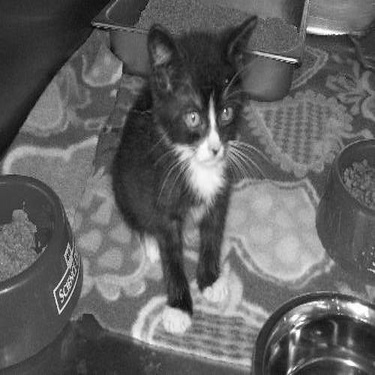cat: (123, 14, 256, 322)
